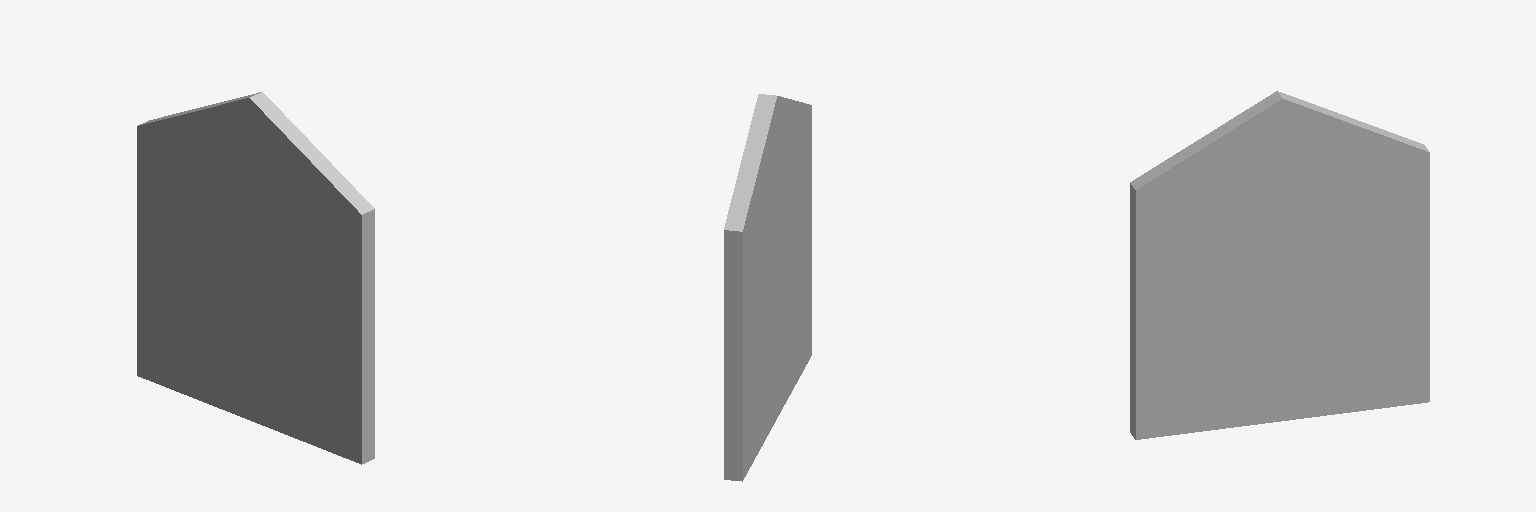
The model's file is door.obj.
3 renders of one model, left to right at view 1: azimuth 30°, elevation 25°; view 2: azimuth 150°, elevation 25°; view 3: azimuth 270°, elevation 25°, orthographic.
Parts seen in each view (by area): view 1: Door_Grid.013; view 2: Door_Grid.013; view 3: Door_Grid.013.
Part boxes in pixels (x1,y1,x2,y2): Door_Grid.013: (137, 92, 374, 464); Door_Grid.013: (724, 94, 811, 481); Door_Grid.013: (1130, 91, 1429, 439).
Bounding box in the file's own units: 4.72 × 15.5 × 13.07.